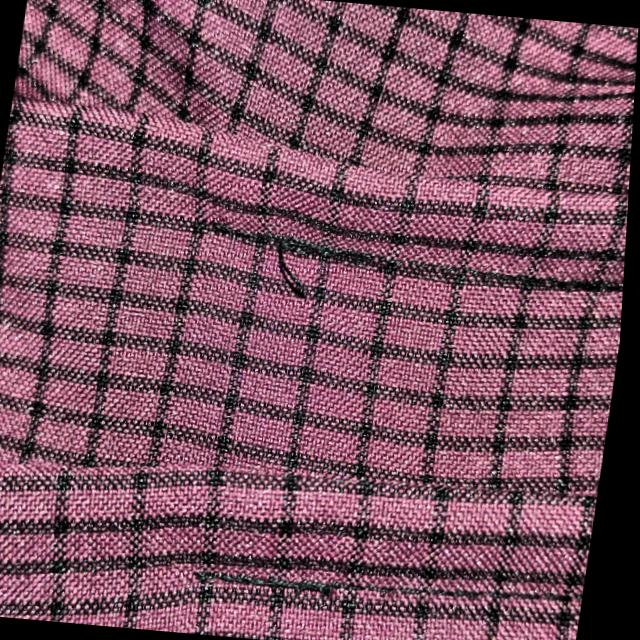Stitch: (236, 191, 361, 344)
